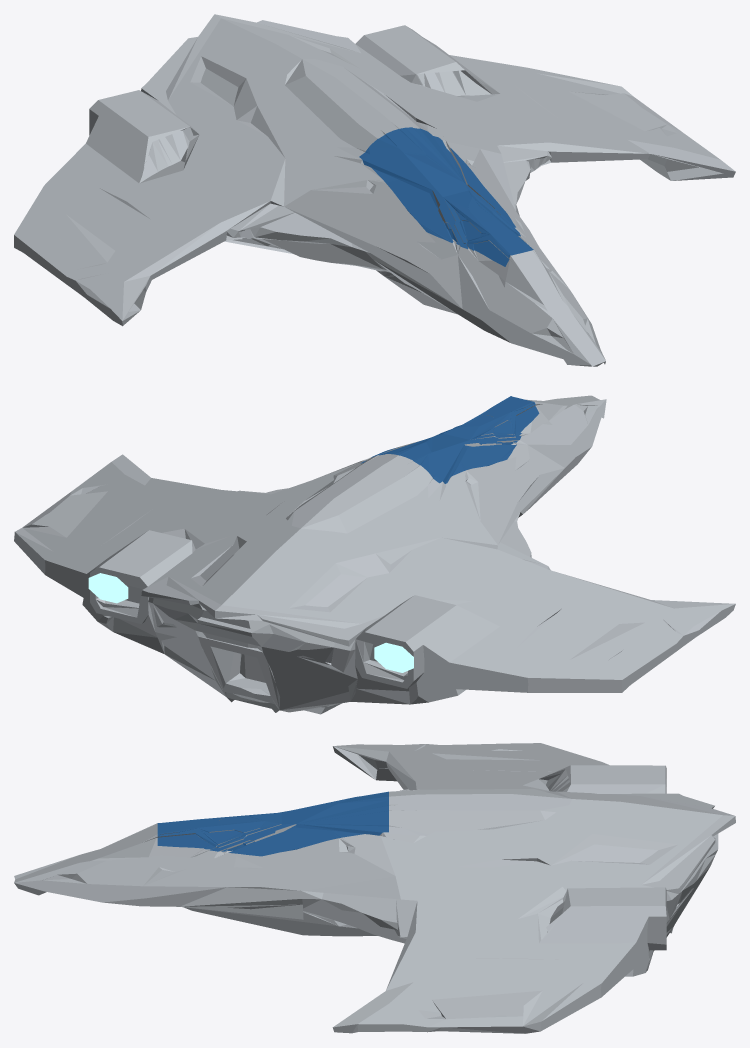
The model's file is eagle.glb.
The picture shows the model from 3 angles, top to bottom: view 1: azimuth 30°, elevation 25°; view 2: azimuth 150°, elevation 25°; view 3: azimuth 270°, elevation 25°; orthographic projection. The views are drawn at different scales.
Visible parts, largest first — view 1: eagle; view 2: eagle; view 3: eagle.
Part boxes in pixels (x1,y1,x2,y2): eagle: (14, 14, 735, 366); eagle: (14, 395, 735, 714); eagle: (14, 743, 735, 1033).
Bounding box in the file's own units: 28.73 × 7.12 × 31.16.
